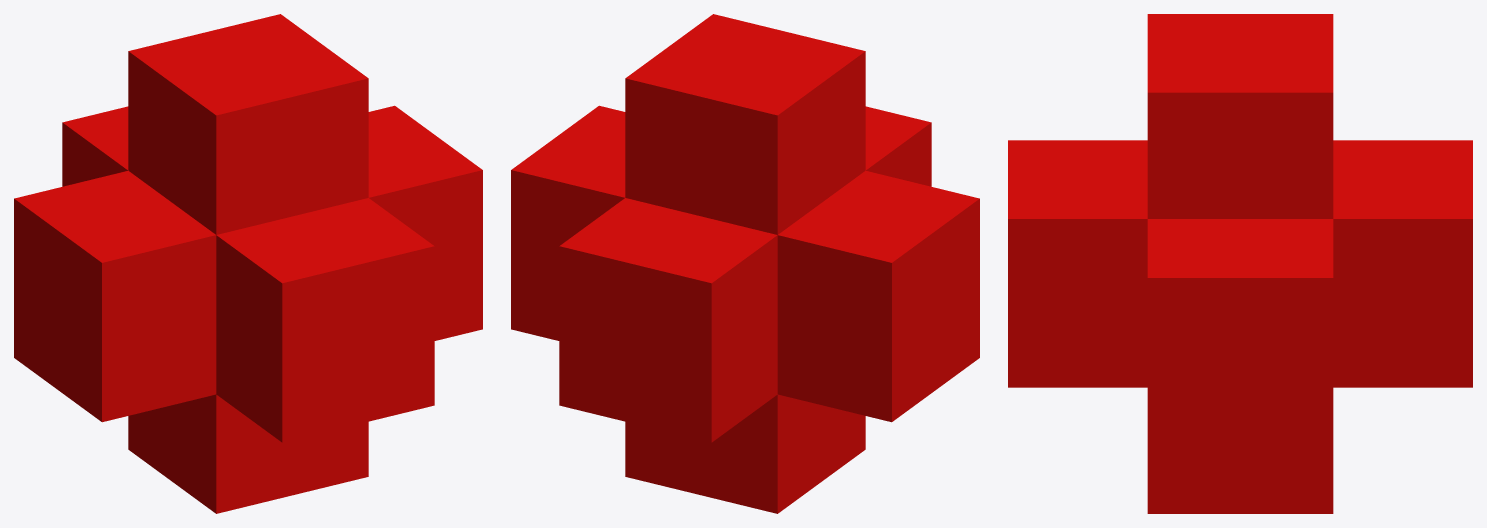
Rendered from Health Cross.fbx.
3 renders of one model, left to right at view 1: azimuth 30°, elevation 25°; view 2: azimuth 150°, elevation 25°; view 3: azimuth 270°, elevation 25°, orthographic. The views are drawn at different scales.
Parts seen in each view (by area): view 1: Health Cross; view 2: Health Cross; view 3: Health Cross.
Part boxes in pixels (<box>): Health Cross: <box>14,14,482,513</box>; Health Cross: <box>511,14,979,513</box>; Health Cross: <box>1008,14,1472,513</box>.
Size of the model in its own units: 76.86 by 76.86 by 76.86.
